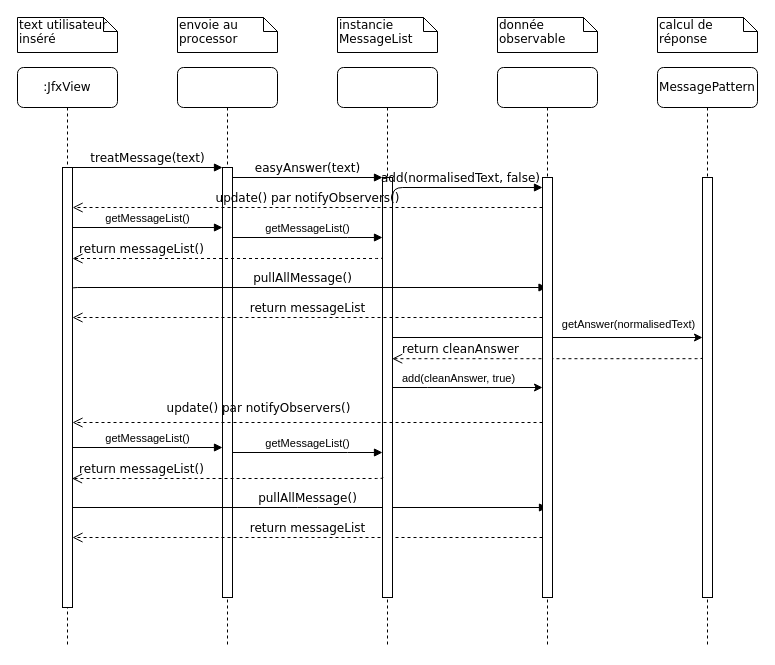
Some shapes in this 775 by 665 pixel diagram are drawn without their labels. Each missing label, with the box of its shape:
:Controller: (176, 66, 278, 648)
:MessageList: (496, 66, 598, 648)
:MessageProcessor: (336, 66, 438, 648)
